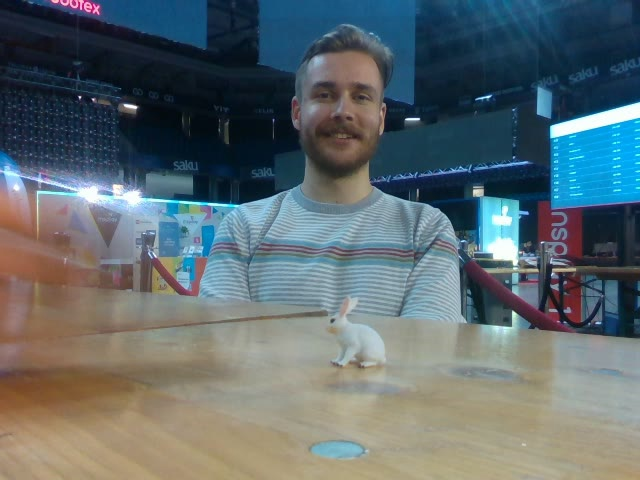toy: (326, 295, 388, 368)
